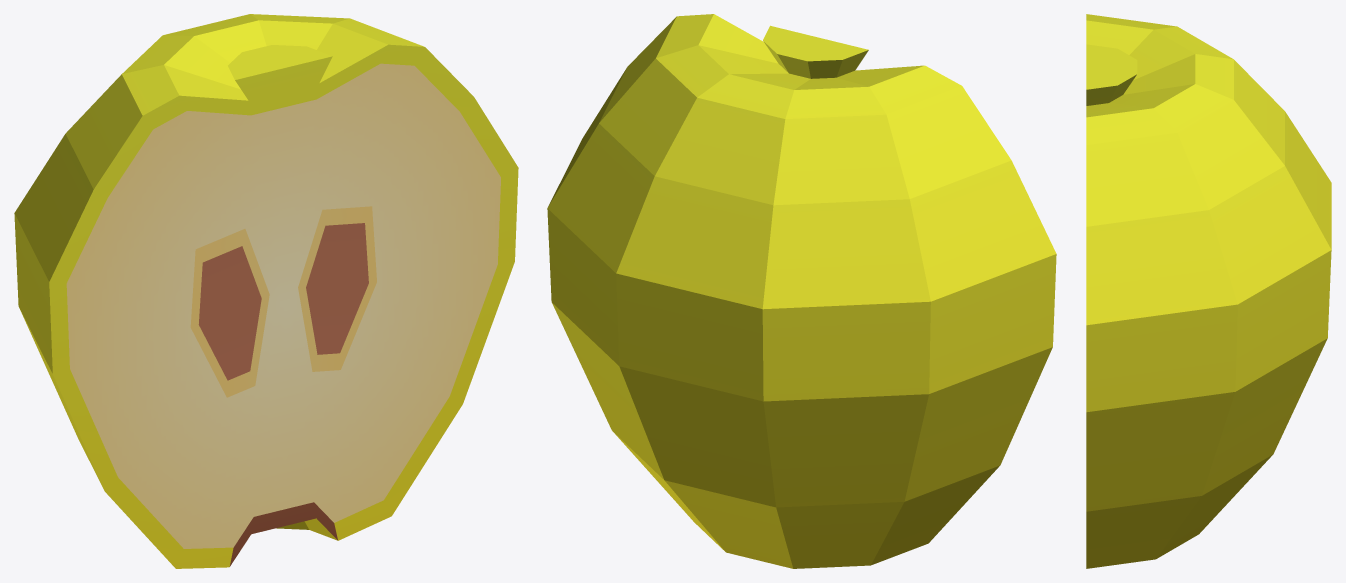
The model's file is Quince Half.fbx.
3 renders of one model, left to right at view 1: azimuth 30°, elevation 25°; view 2: azimuth 150°, elevation 25°; view 3: azimuth 270°, elevation 25°, orthographic. The views are drawn at different scales.
Parts seen in each view (by area): view 1: Quince Half; view 2: Quince Half; view 3: Quince Half.
Part boxes in pixels (x1,y1,x2,y2): Quince Half: [14, 14, 518, 568]; Quince Half: [547, 14, 1056, 568]; Quince Half: [1086, 14, 1331, 568].
Bounding box in the file's own units: 11.78 × 11.66 × 5.62.
